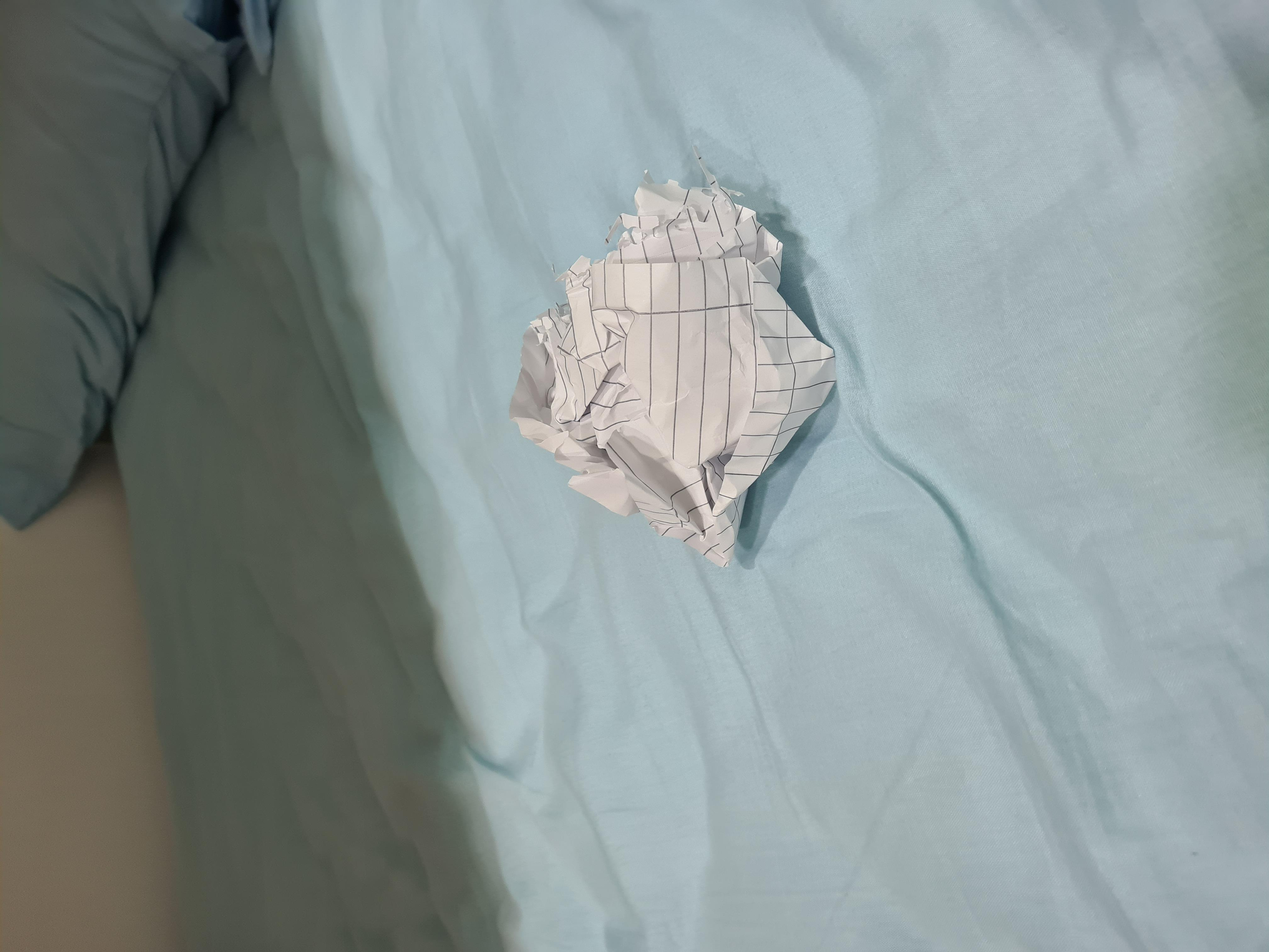paper: (526, 390, 1016, 622)
